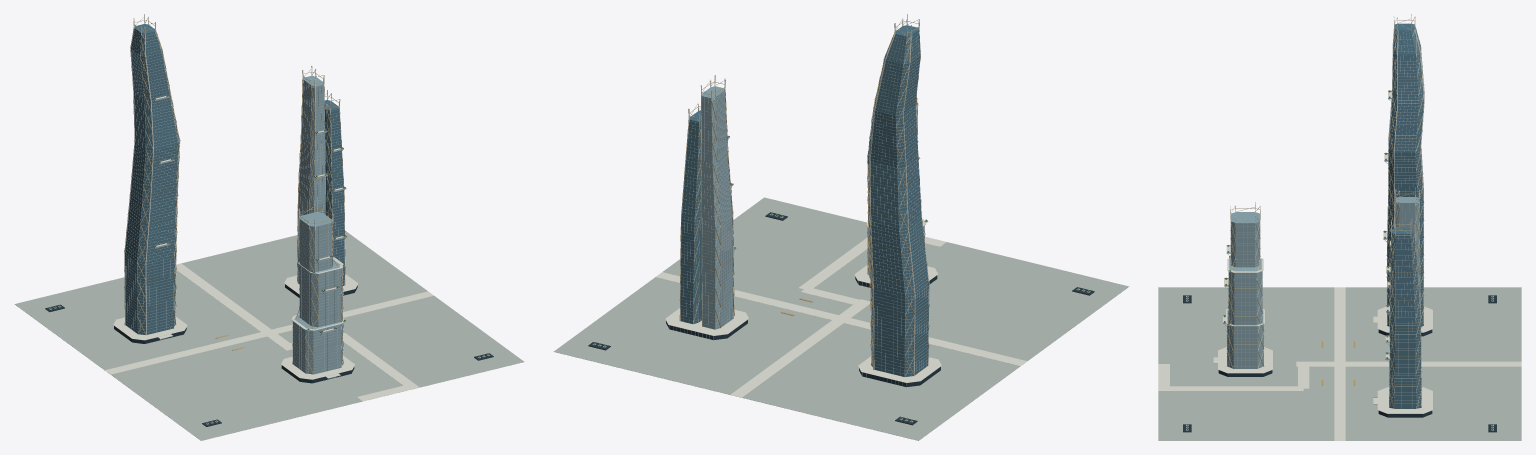
The model's file is center.glb.
The picture shows the model from 3 angles, left to right: view 1: azimuth 30°, elevation 25°; view 2: azimuth 150°, elevation 25°; view 3: azimuth 270°, elevation 25°; orthographic projection. The views are drawn at different scales.
Visible parts, largest first — view 1: GC-SUBCENTER-001-stone, GC-SUBCENTER-001-blue, GC-SUBCENTER-001-silver, GC-SUBCENTER-001-glass, GC-SUBCENTER-001-ivory, GC-SUBCENTER-001-gold, GC-SUBCENTER-001-dark; view 2: GC-SUBCENTER-001-stone, GC-SUBCENTER-001-blue, GC-SUBCENTER-001-silver, GC-SUBCENTER-001-ivory, GC-SUBCENTER-001-glass, GC-SUBCENTER-001-gold, GC-SUBCENTER-001-dark; view 3: GC-SUBCENTER-001-stone, GC-SUBCENTER-001-blue, GC-SUBCENTER-001-ivory, GC-SUBCENTER-001-silver, GC-SUBCENTER-001-glass, GC-SUBCENTER-001-gold, GC-SUBCENTER-001-dark.
Part boxes in pixels (x1,y1,x2,y2): GC-SUBCENTER-001-stone: (14,96,524,440); GC-SUBCENTER-001-blue: (125,24,344,379); GC-SUBCENTER-001-silver: (125,17,345,380); GC-SUBCENTER-001-glass: (152,75,347,374); GC-SUBCENTER-001-ivory: (105,14,433,401); GC-SUBCENTER-001-gold: (124,14,346,378); GC-SUBCENTER-001-dark: (45,284,493,426); GC-SUBCENTER-001-stone: (553,136,1129,440); GC-SUBCENTER-001-blue: (680,25,928,376); GC-SUBCENTER-001-silver: (669,18,929,386); GC-SUBCENTER-001-ivory: (656,14,1026,397); GC-SUBCENTER-001-glass: (701,86,924,329); GC-SUBCENTER-001-gold: (679,14,929,376); GC-SUBCENTER-001-dark: (588,212,1094,425); GC-SUBCENTER-001-stone: (1158,91,1521,440); GC-SUBCENTER-001-blue: (1387,23,1423,408); GC-SUBCENTER-001-ivory: (1158,14,1521,440); GC-SUBCENTER-001-silver: (1224,17,1424,408); GC-SUBCENTER-001-glass: (1223,90,1420,368); GC-SUBCENTER-001-gold: (1214,14,1424,408); GC-SUBCENTER-001-dark: (1183,295,1496,432).
Size of the model in its own units: 500 by 460 by 500.
